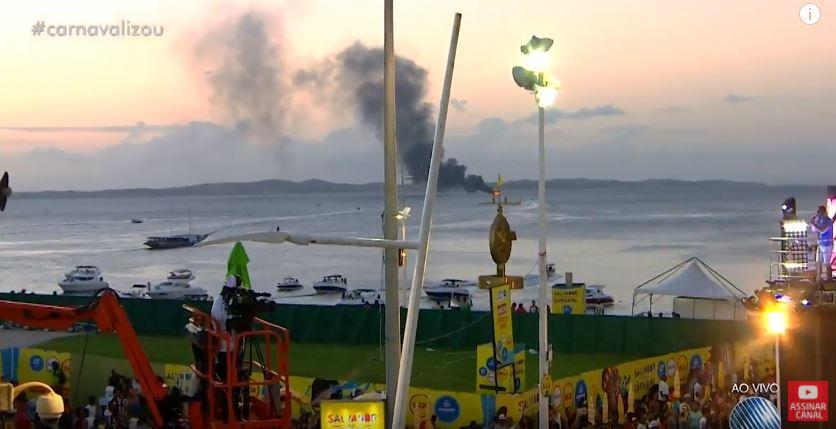smoke: (226, 32, 291, 110), (401, 61, 436, 169), (323, 47, 380, 111)
